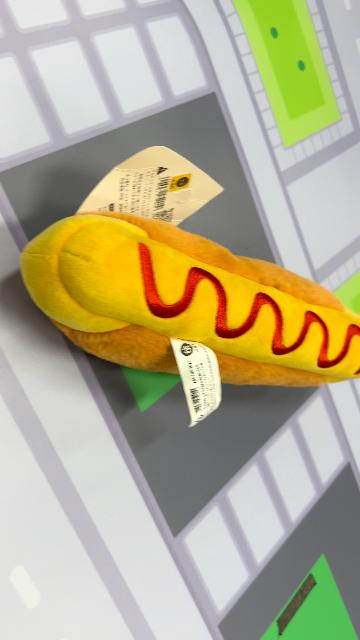hotdog: (19, 210, 359, 390), (135, 240, 359, 374)
